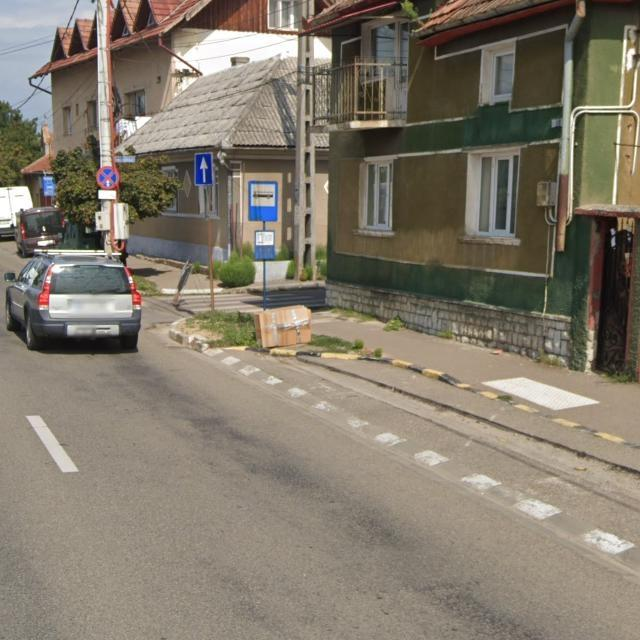forb_waiting: (96, 166, 119, 190)
